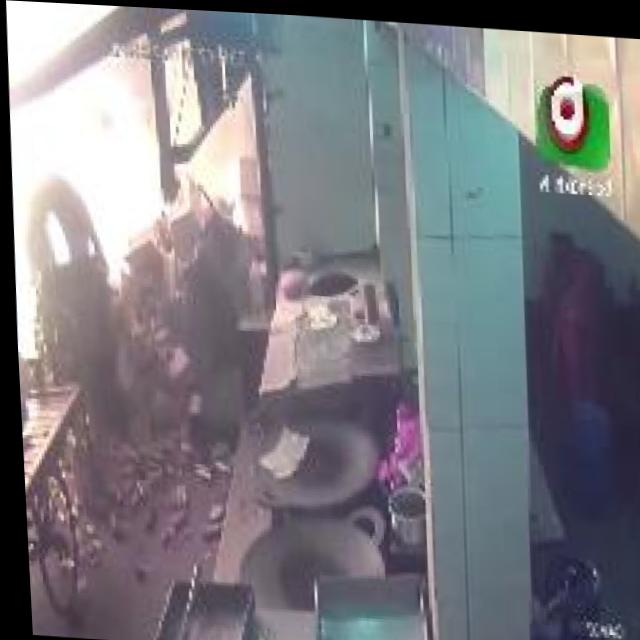fire: (2, 0, 186, 364)
